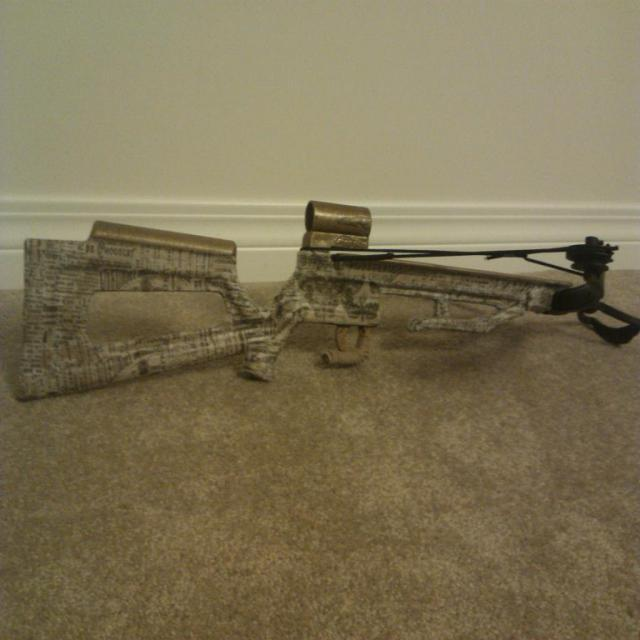weapon: (14, 200, 640, 402)
